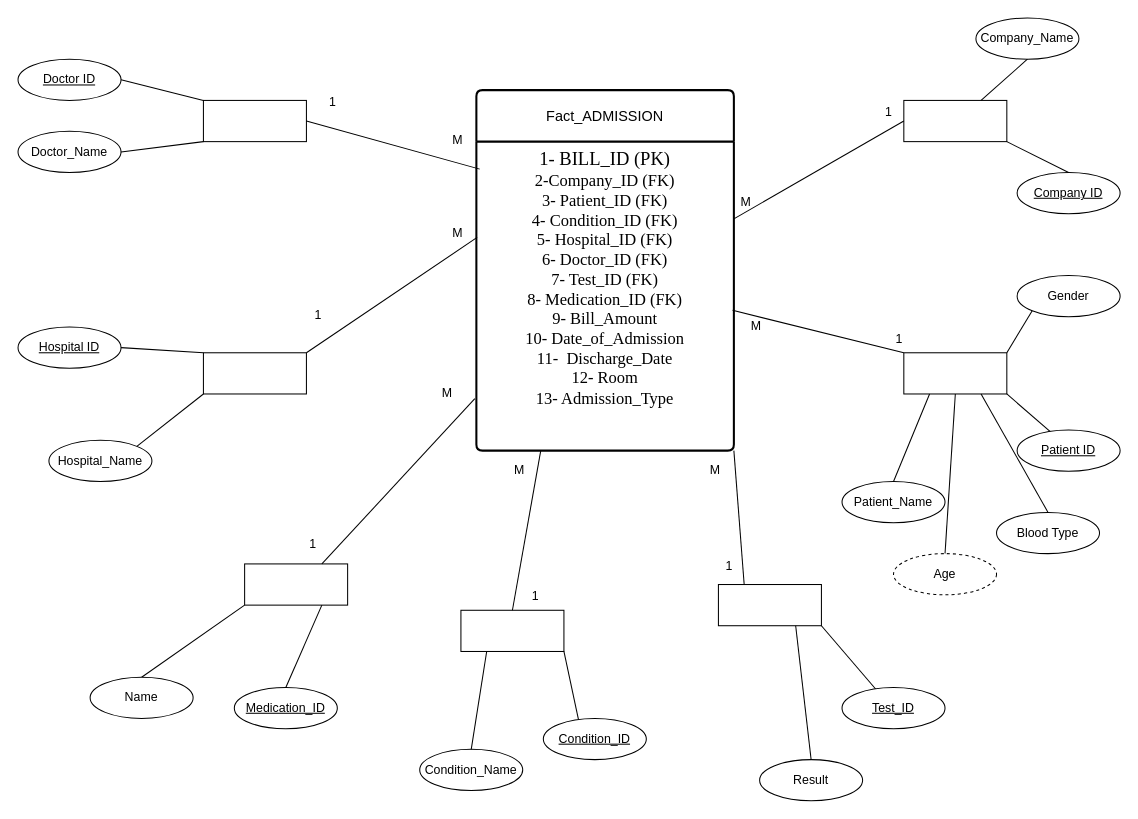
The diagram is 1138 pixels wide and 819 high, and some of its shapes have lost their labels. Each missing label, with the centre of its shape:
Doctors: (254,120)
Hospitals: (254,373)
Insurance Company: (955,120)
Medical Conditions: (512,630)
Medications: (296,584)
Patients: (955,373)
Test_Result: (769,604)
